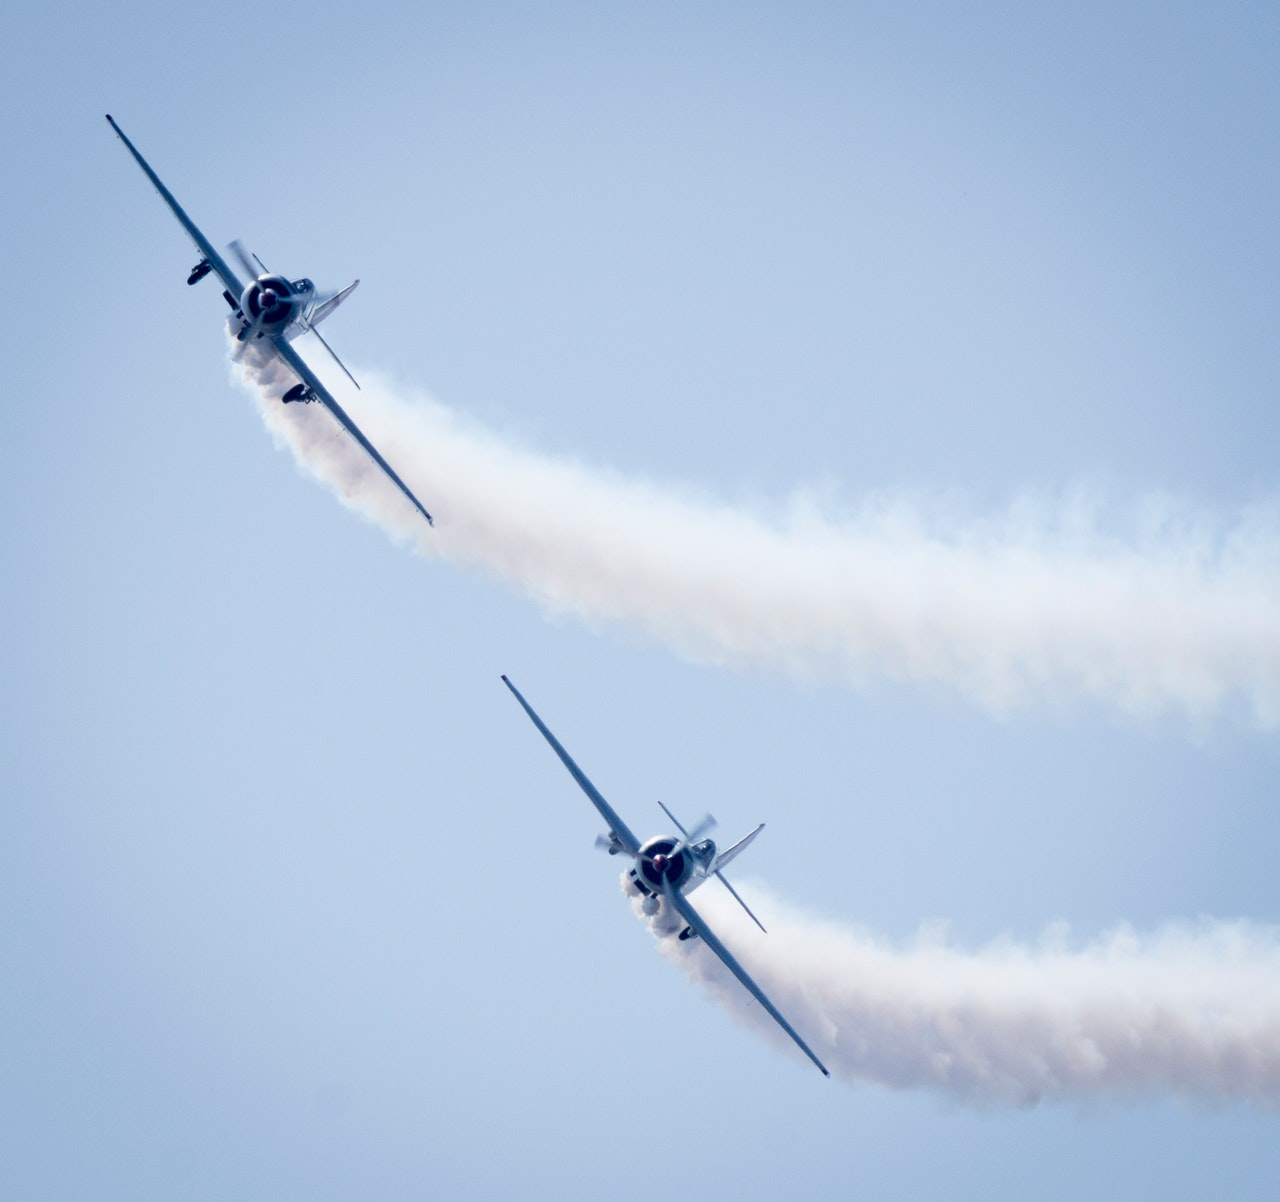plane: (102, 108, 438, 526), (497, 670, 833, 1081)
